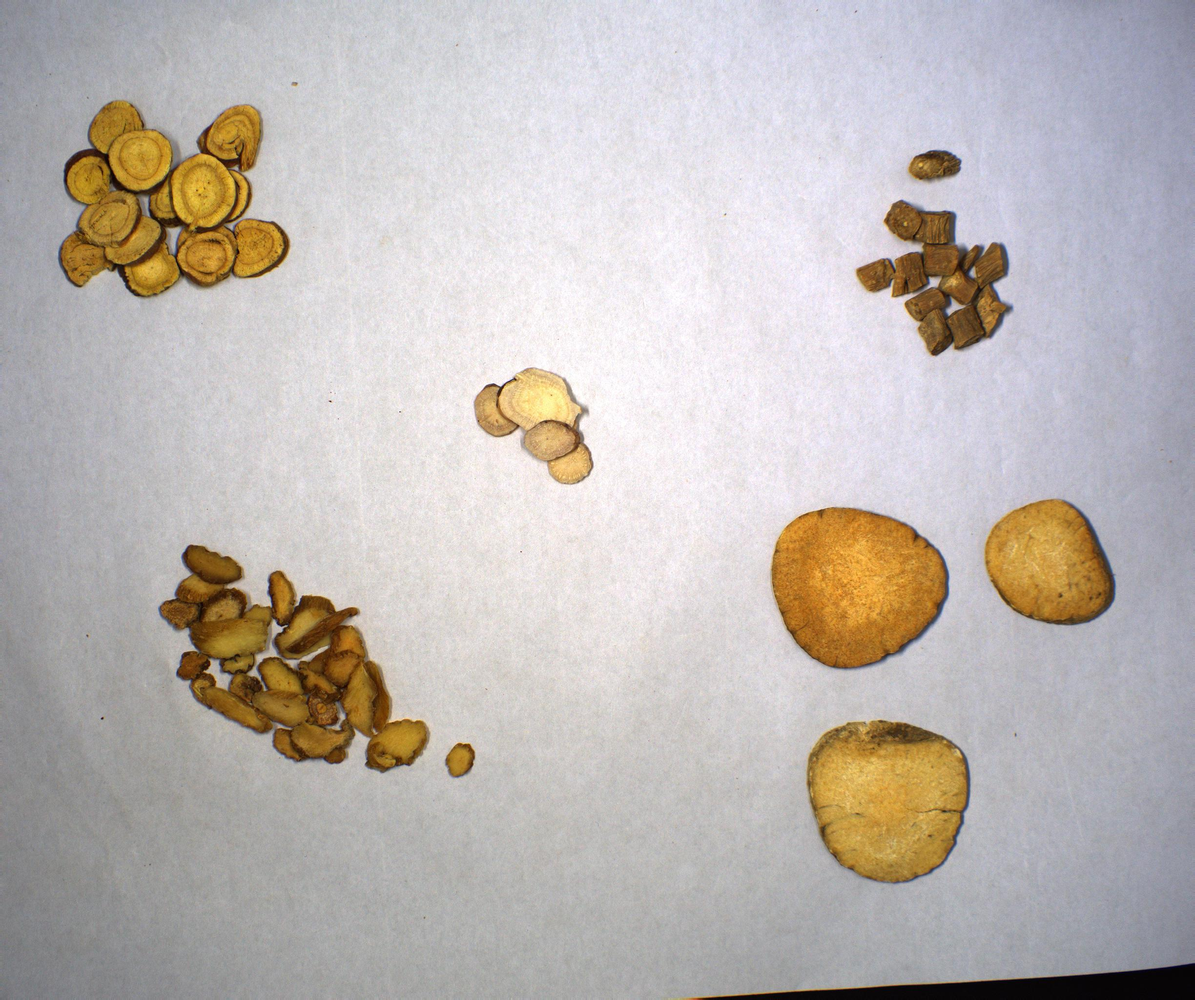baishao: (476, 365, 600, 488)
gancaopian: (58, 99, 291, 305)
niuxi: (858, 149, 1012, 358)
yuzhu: (158, 546, 477, 782)
zexie: (769, 498, 1120, 890)
